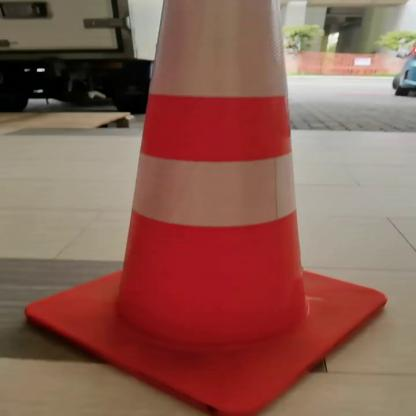cone: (19, 2, 397, 415)
